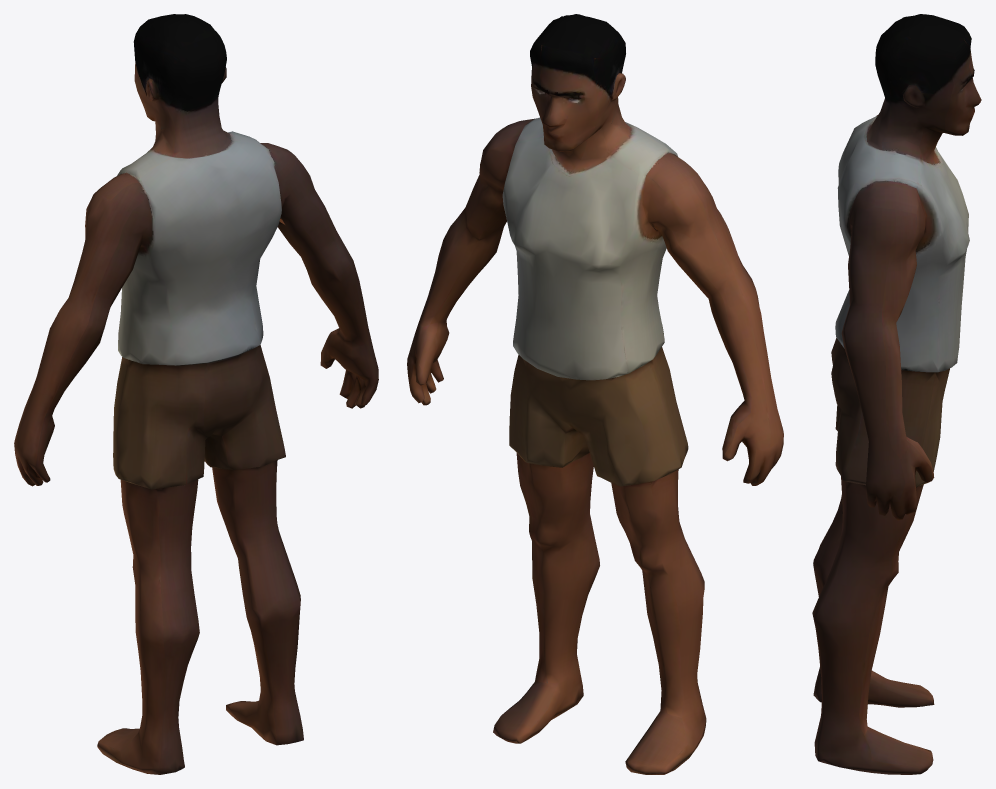
3 views of the same model, side by side, from view 1: azimuth 30°, elevation 25°; view 2: azimuth 150°, elevation 25°; view 3: azimuth 270°, elevation 25° (orthographic). The views are drawn at different scales.
Visible parts, largest first — view 1: world; view 2: world; view 3: world.
Part boxes in pixels (left/top/right/bottom): world: left=14, top=14, right=378, bottom=774; world: left=407, top=14, right=783, bottom=774; world: left=812, top=14, right=981, bottom=774.
Bounding box in the file's own units: 0.4577 × 0.8752 × 0.1881.
Materials: 1 (1 with a texture image).
